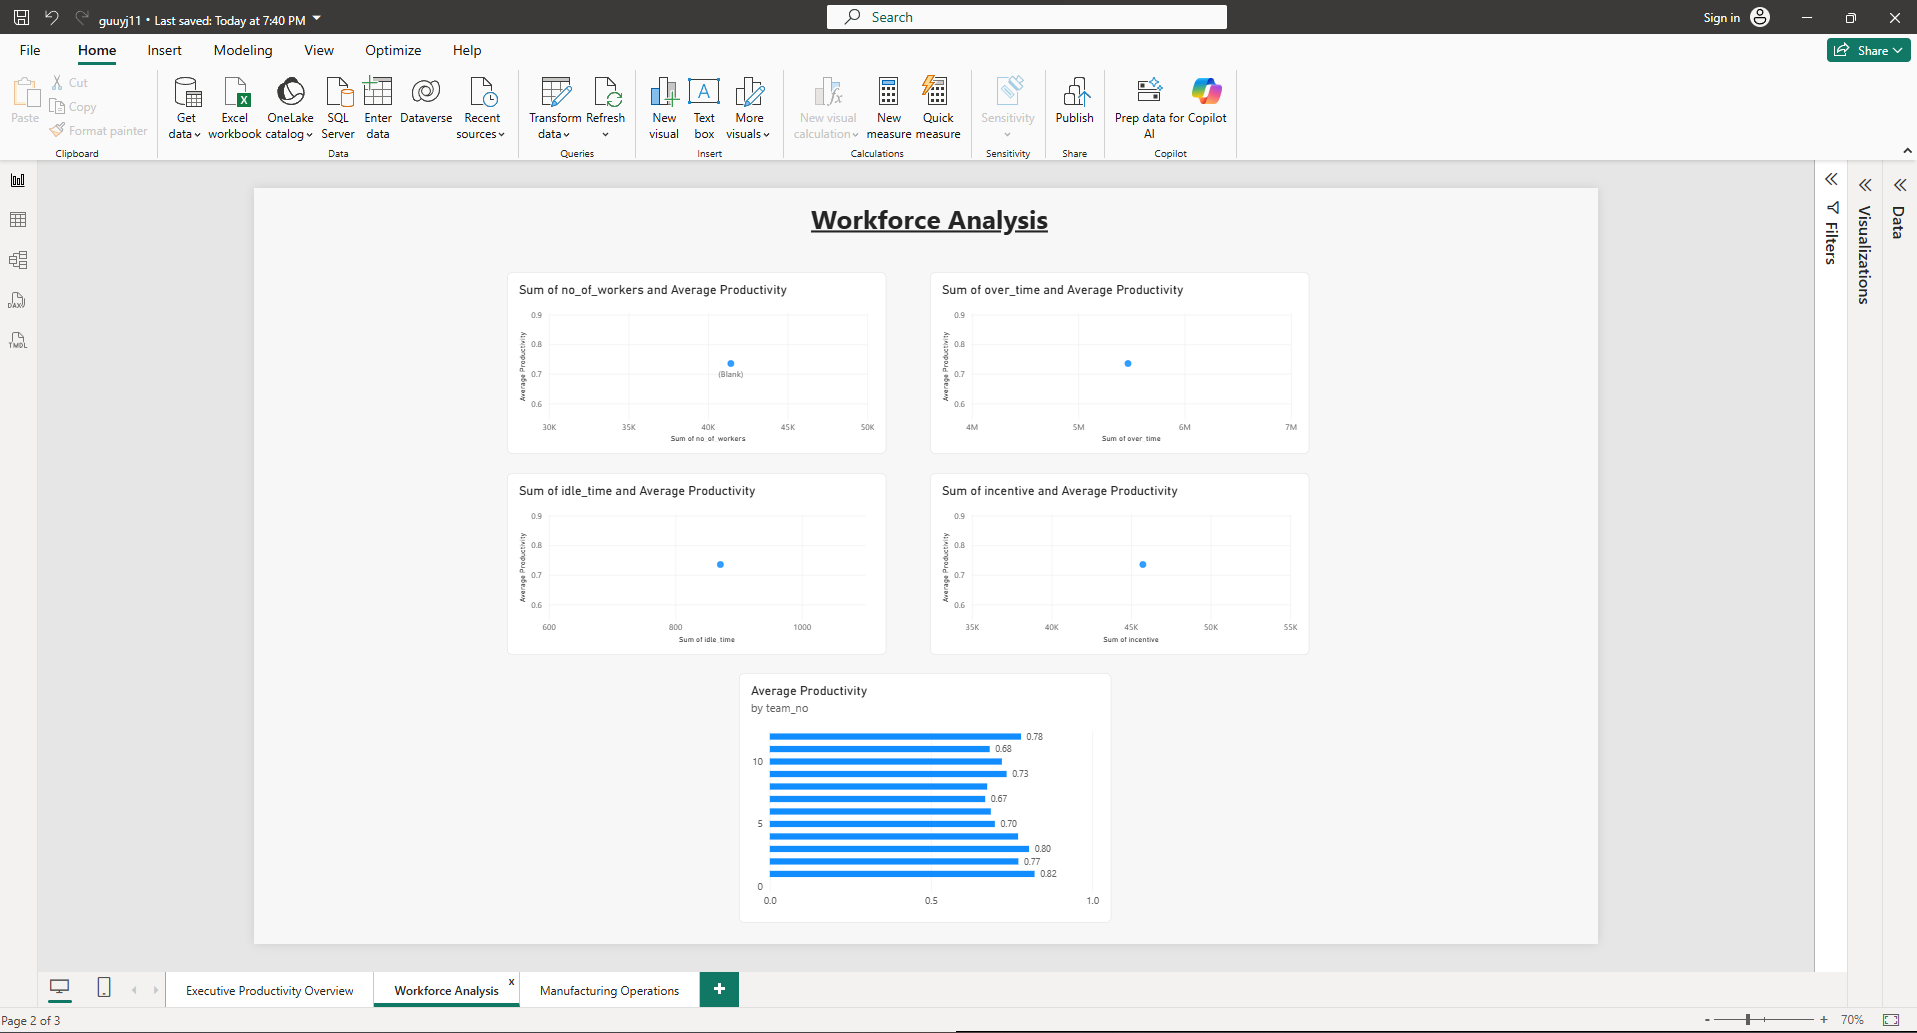

This screenshot's page, from the dashboard's own definition file:
{"tool":"powerbi","page":{"name":"Workforce Analysis","canvas":[1920,1080],"ordinal":1},"visuals":[{"type":"textbox","box":[10,18.3,1910,73.3],"z":0},{"type":"scatterChart","fields":{"X":["Sum(ProductionProductivity.no_of_workers)"],"Y":["ProductionProductivity.Average Productivity"]},"box":[361.7,120,541.7,260],"z":1000},{"type":"scatterChart","fields":{"X":["Sum(ProductionProductivity.over_time)"],"Y":["ProductionProductivity.Average Productivity"]},"box":[965,120,541.7,260],"z":2000},{"type":"scatterChart","fields":{"X":["Sum(ProductionProductivity.idle_time)"],"Y":["ProductionProductivity.Average Productivity"]},"box":[361.7,406.7,541.7,260],"z":3000},{"type":"scatterChart","fields":{"X":["Sum(ProductionProductivity.incentive)"],"Y":["ProductionProductivity.Average Productivity"]},"box":[965,406.7,541.7,260],"z":4000},{"type":"barChart","fields":{"Category":["ProductionProductivity.team_no"],"Y":["ProductionProductivity.Average Productivity"]},"box":[693.3,693.3,531.7,356.7],"z":5000}]}

Visuals, with their boxes on the page's 1920x1080 design canvas (x1, y1, x2, y2). These are canvas units, not pixel positions in the 1917x1033 screenshot, which may show the page scaled, cropped or inside an application window:
textbox: region(10, 18, 1920, 92)
scatterChart - Sum(ProductionProductivity.no_of_workers) x ProductionProductivity.Average Productivity: region(362, 120, 903, 380)
scatterChart - Sum(ProductionProductivity.over_time) x ProductionProductivity.Average Productivity: region(965, 120, 1507, 380)
scatterChart - Sum(ProductionProductivity.idle_time) x ProductionProductivity.Average Productivity: region(362, 407, 903, 667)
scatterChart - Sum(ProductionProductivity.incentive) x ProductionProductivity.Average Productivity: region(965, 407, 1507, 667)
barChart - ProductionProductivity.team_no x ProductionProductivity.Average Productivity: region(693, 693, 1225, 1050)
